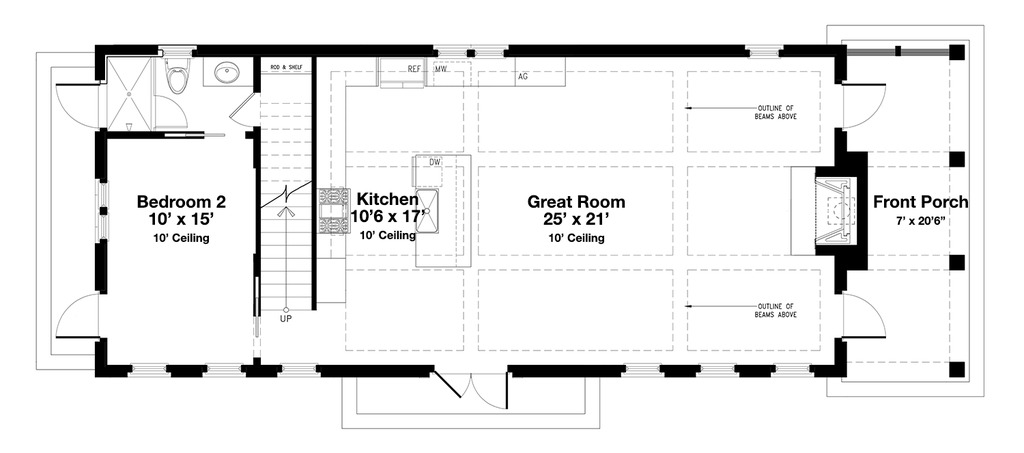door: (430, 366, 511, 413), (837, 289, 890, 345), (51, 79, 103, 134), (51, 289, 100, 345), (842, 80, 889, 133), (148, 94, 189, 129), (223, 88, 259, 127)
kitchen_bar: (410, 152, 476, 275)
large_sink: (159, 58, 194, 97)
small_sink: (200, 56, 252, 89)
stairs: (257, 54, 315, 320)
windows: (427, 38, 510, 60), (90, 175, 109, 246), (269, 359, 329, 380), (197, 358, 249, 382), (615, 360, 667, 381), (764, 363, 817, 382), (121, 362, 175, 380), (691, 361, 741, 379), (744, 44, 786, 62)
